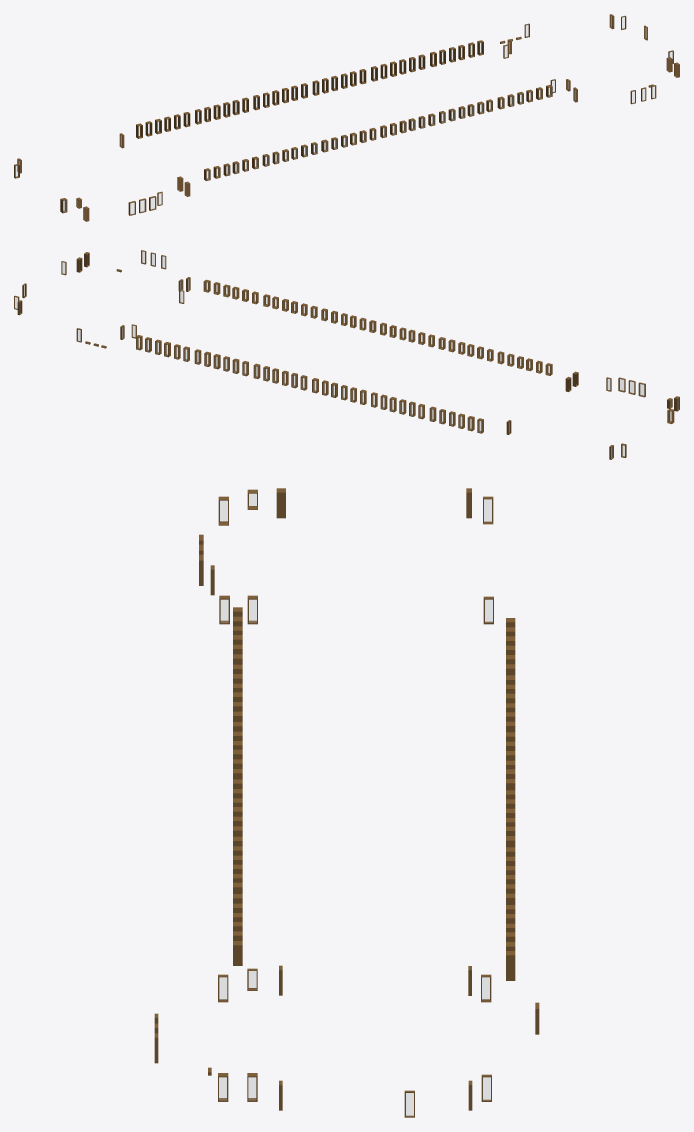
File: insaat_revit.ifc.ifc.ifc.ifc_93.0 Matbaa_IfcWindow.dae
3 renders of one model, top to bottom at view 1: azimuth 30°, elevation 25°; view 2: azimuth 150°, elevation 25°; view 3: azimuth 270°, elevation 25°, orthographic. The views are drawn at different scales.
Bounding box in the file's own units: 75.63 × 20.4 × 2.2.
